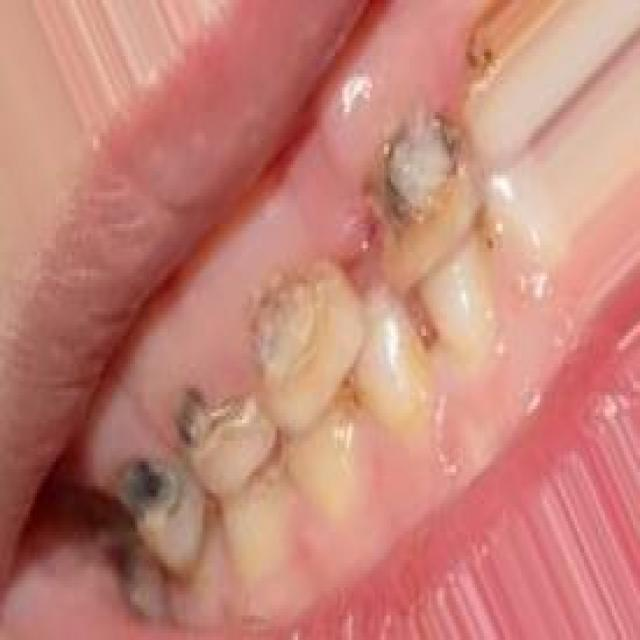caries: (358, 109, 473, 272), (241, 255, 346, 393), (106, 447, 190, 560), (166, 375, 256, 463)
